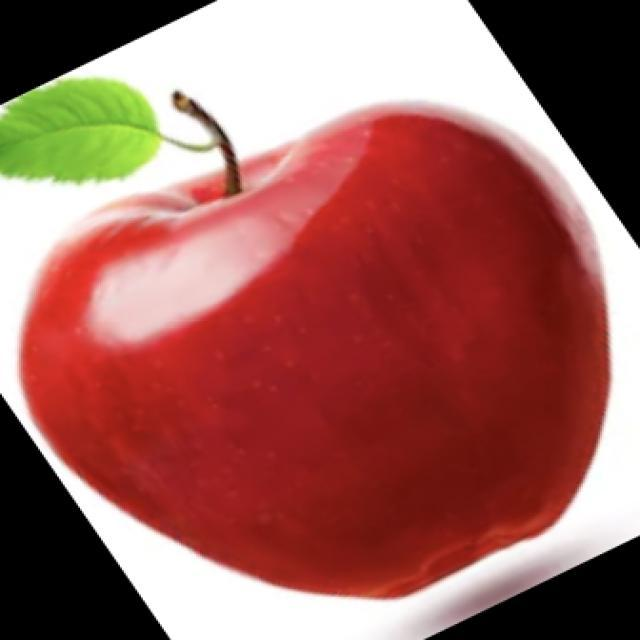Fresh Apple: (59, 137, 614, 583)
